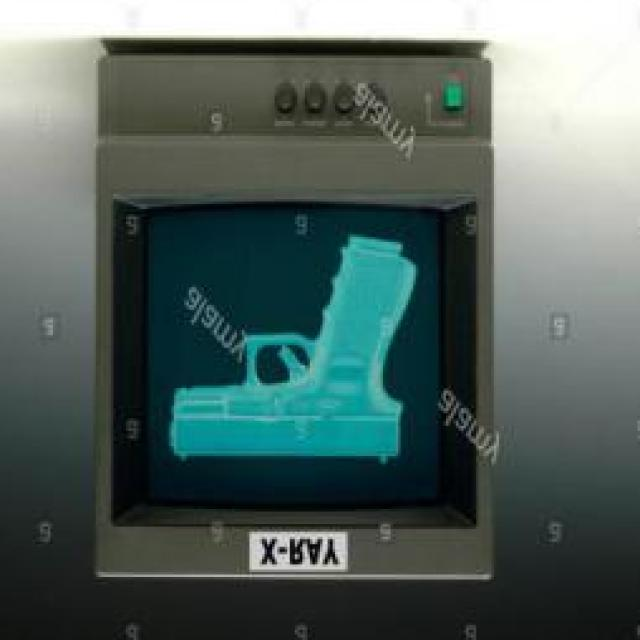pistol: (169, 233, 423, 464)
